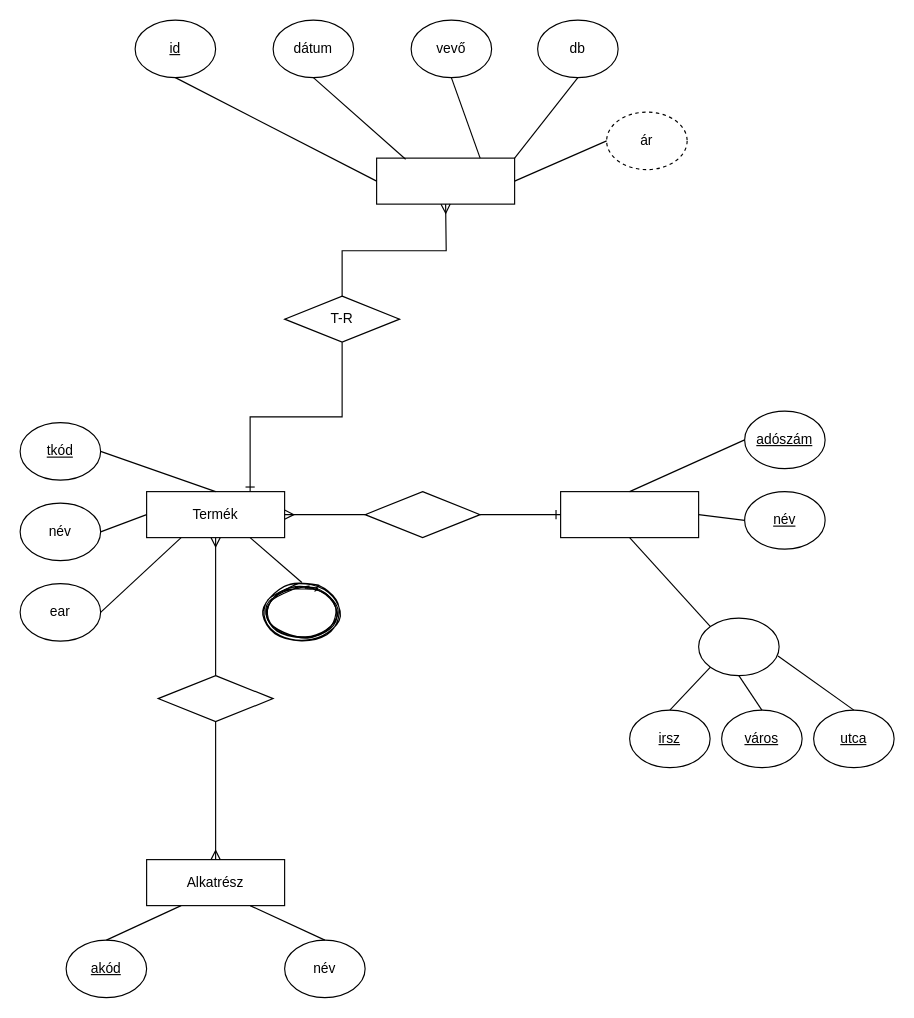
This 914x1018 diagram has some shape labels left out. The box of each missing label's shape, as (x1, y1, x2, y2) in pixels:
(telephely): (697, 617, 779, 676)
Egységek száma: (260, 582, 342, 641)
Gyártó: (559, 490, 699, 538)
Rendelések: (375, 157, 515, 204)
T-A: (157, 674, 273, 722)
T-Gy: (364, 490, 480, 538)
